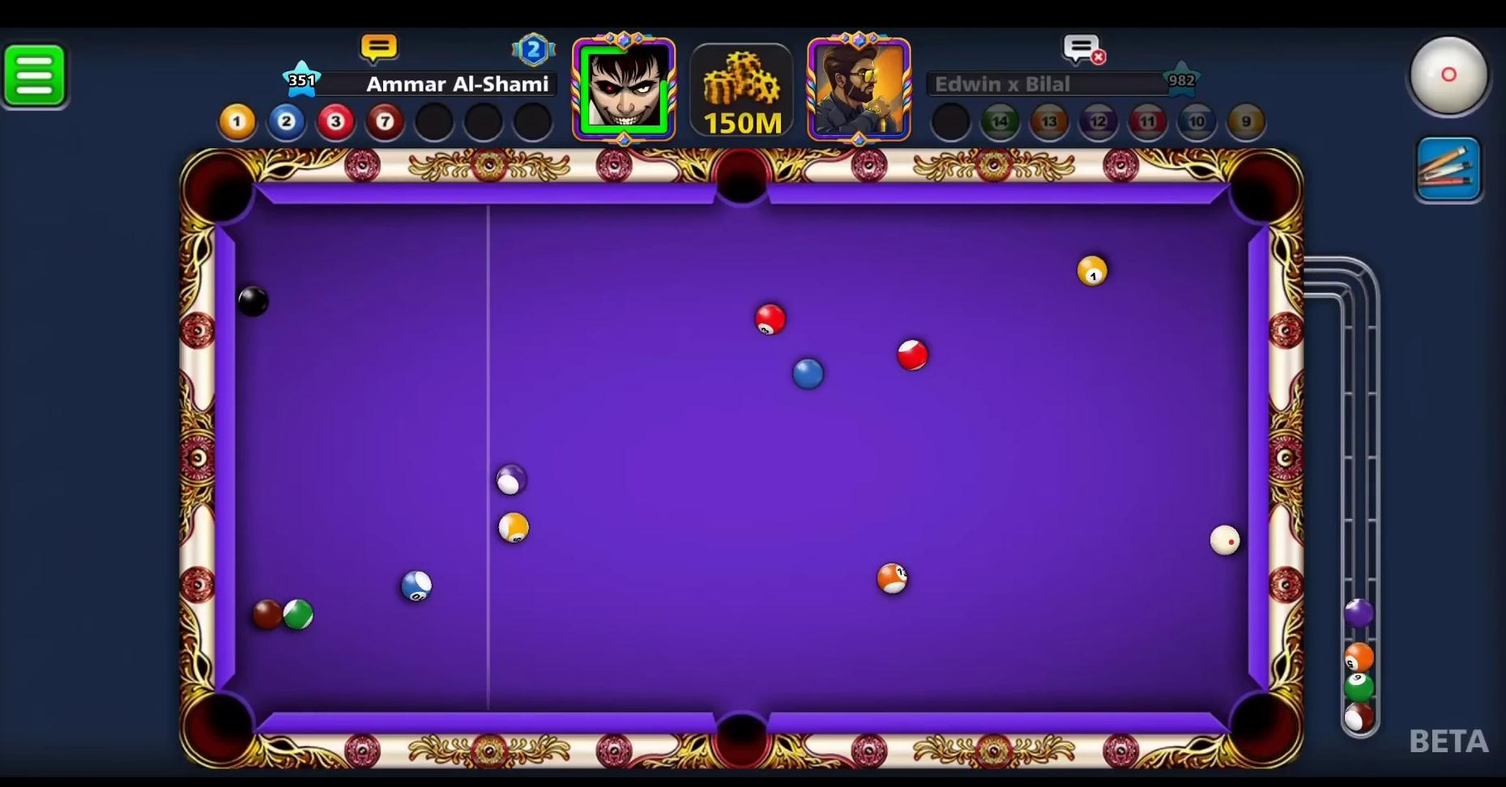Ball: (488, 501, 538, 553), (393, 562, 442, 612), (278, 584, 320, 641), (226, 283, 278, 324), (487, 458, 536, 500), (244, 591, 289, 636), (872, 555, 913, 602), (1070, 252, 1117, 291), (744, 301, 790, 338), (894, 336, 935, 375), (787, 355, 826, 393)
Hole: (1214, 681, 1308, 776), (175, 140, 266, 235), (173, 687, 267, 772), (1220, 141, 1303, 236), (702, 143, 783, 223), (703, 697, 781, 776)
Play_Area: (233, 204, 1243, 717)
Spin: (1402, 28, 1503, 130)
White: (1205, 518, 1245, 560)
